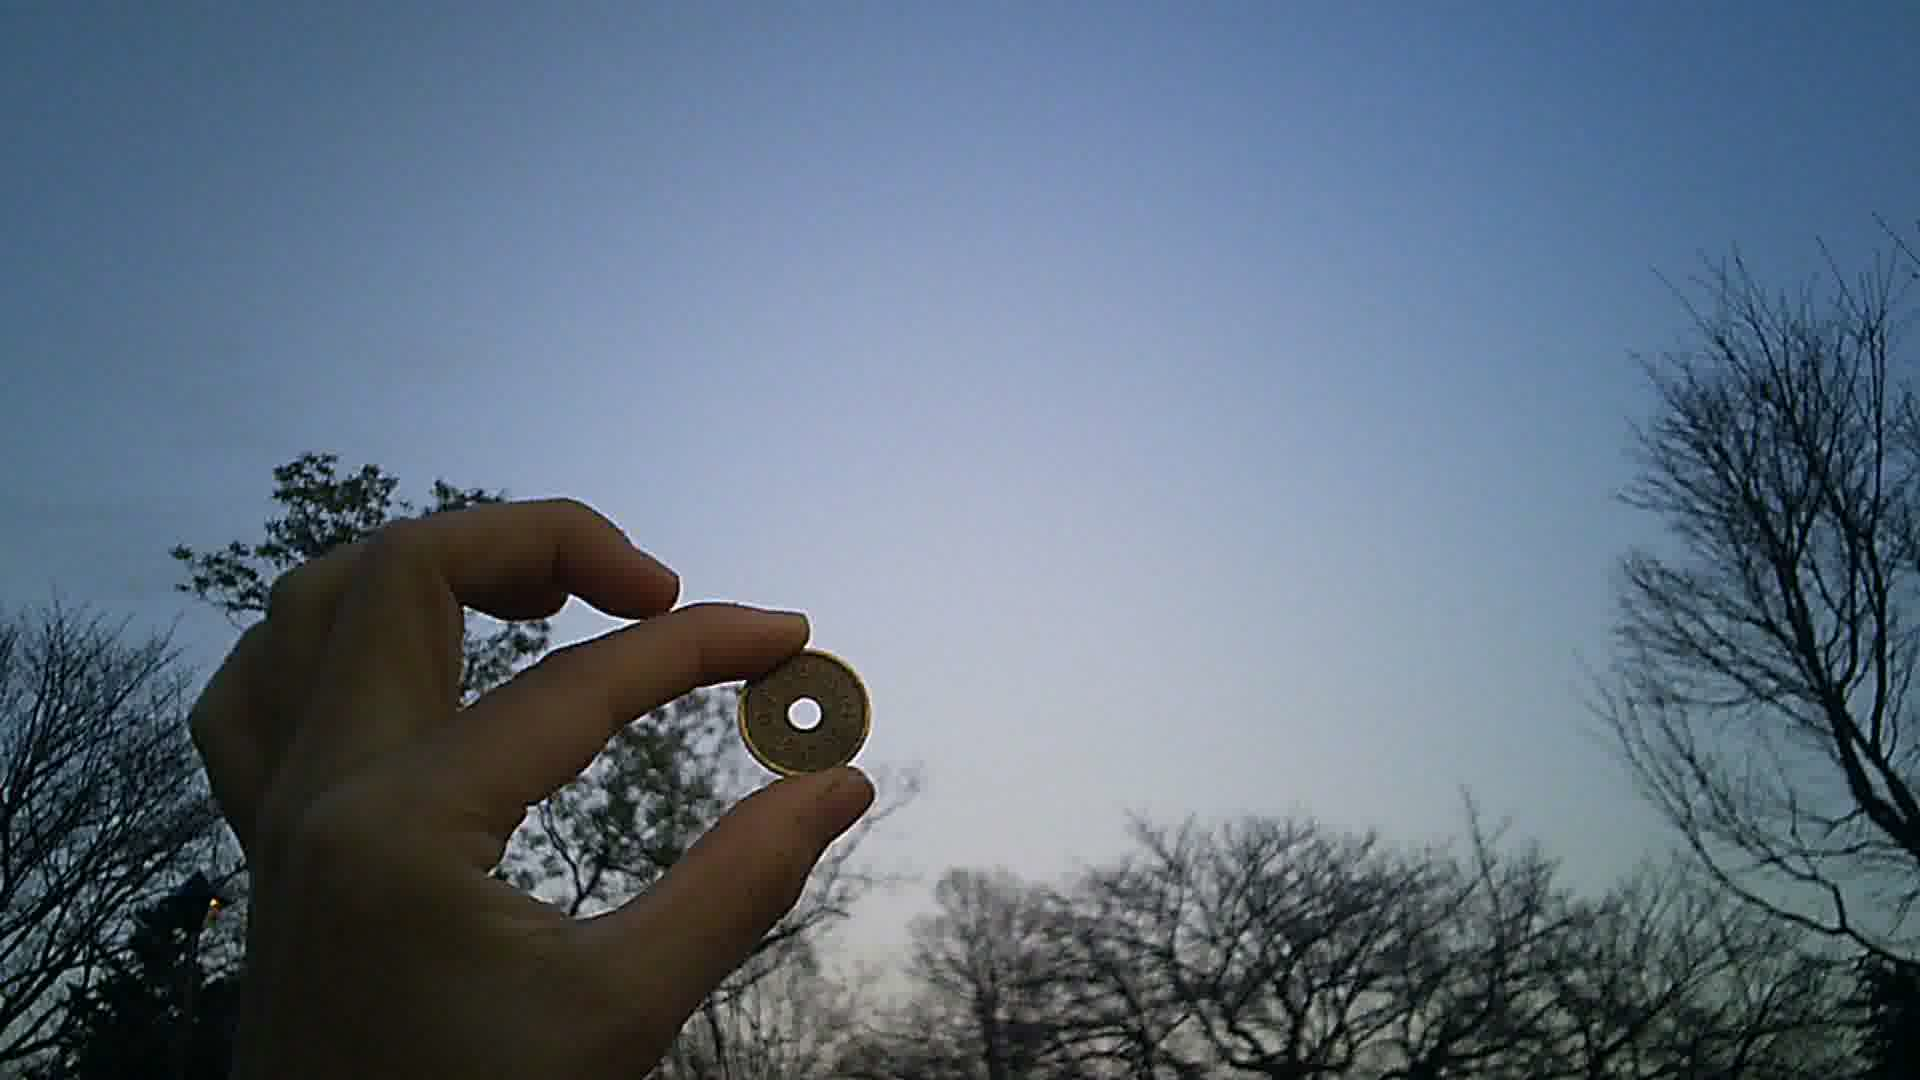5 Yen: (735, 642, 891, 786)
